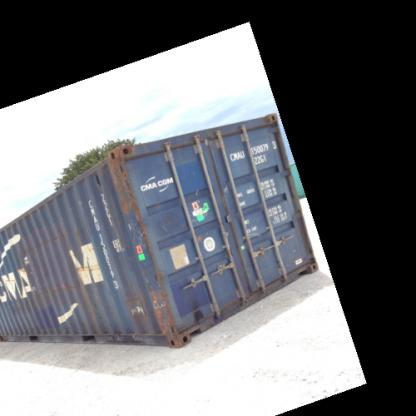Damage: (96, 154, 157, 254), (122, 268, 174, 332), (3, 322, 115, 340), (17, 226, 82, 256), (34, 279, 92, 302), (1, 272, 31, 296), (183, 229, 207, 249), (188, 298, 206, 322), (204, 127, 222, 147), (72, 260, 98, 273), (163, 209, 178, 227), (271, 254, 284, 272)
